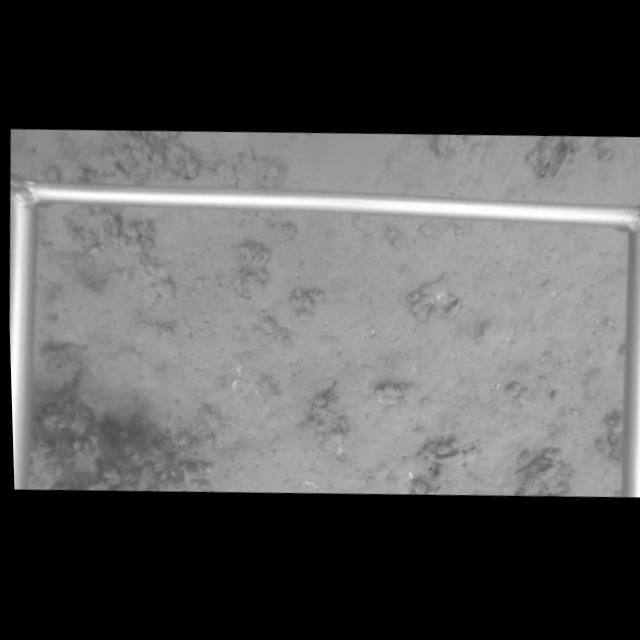Oyster-Closed: (551, 139, 574, 183), (429, 448, 463, 465)
Oyster-Indeterminate: (121, 317, 184, 369)
Oyster-Open: (443, 296, 463, 319)
